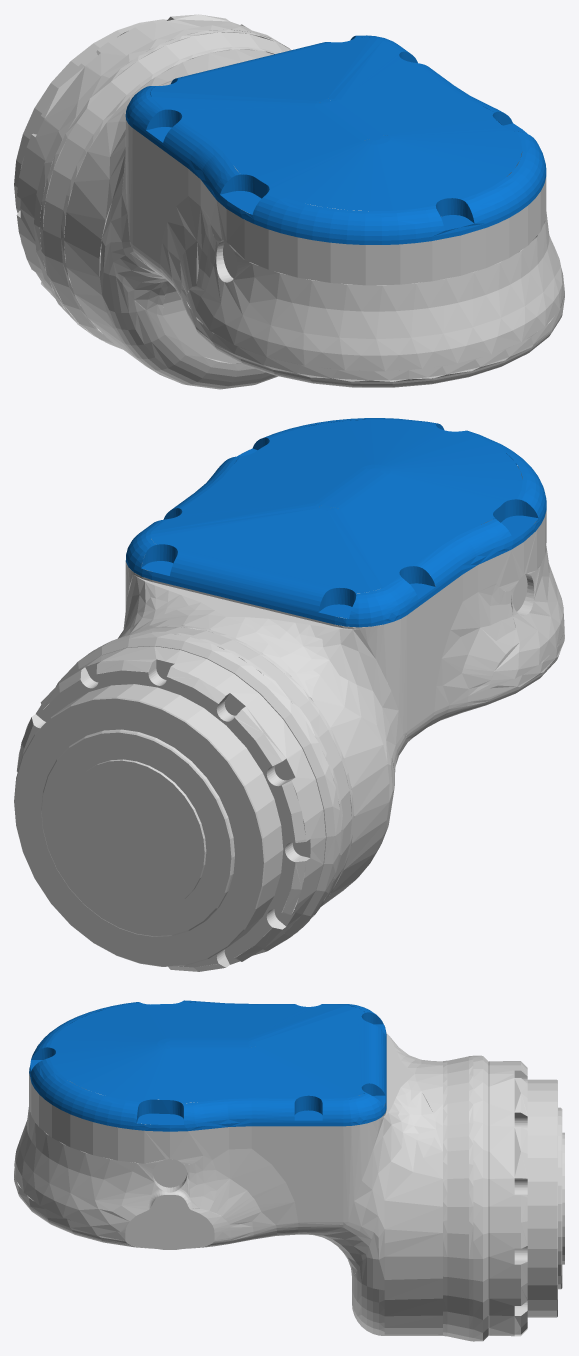
The model's file is arm_right_link_2_l.dae.
The picture shows the model from 3 angles, top to bottom: view 1: azimuth 30°, elevation 25°; view 2: azimuth 150°, elevation 25°; view 3: azimuth 270°, elevation 25°; orthographic projection. The views are drawn at different scales.
Parts seen in each view (by area): view 1: ShapeIndexedFaceSet, ShapeIndexedFaceSet_001; view 2: ShapeIndexedFaceSet, ShapeIndexedFaceSet_001; view 3: ShapeIndexedFaceSet, ShapeIndexedFaceSet_001.
Boxes of the visible parts, left/top/right/bottom form: ShapeIndexedFaceSet: left=14, top=14, right=564, bottom=389; ShapeIndexedFaceSet_001: left=125, top=35, right=546, bottom=244; ShapeIndexedFaceSet: left=14, top=466, right=564, bottom=971; ShapeIndexedFaceSet_001: left=125, top=418, right=546, bottom=627; ShapeIndexedFaceSet: left=14, top=1033, right=564, bottom=1341; ShapeIndexedFaceSet_001: left=29, top=1000, right=386, bottom=1131.
Bounding box in the file's own units: 0.141 × 0.2543 × 0.145.
